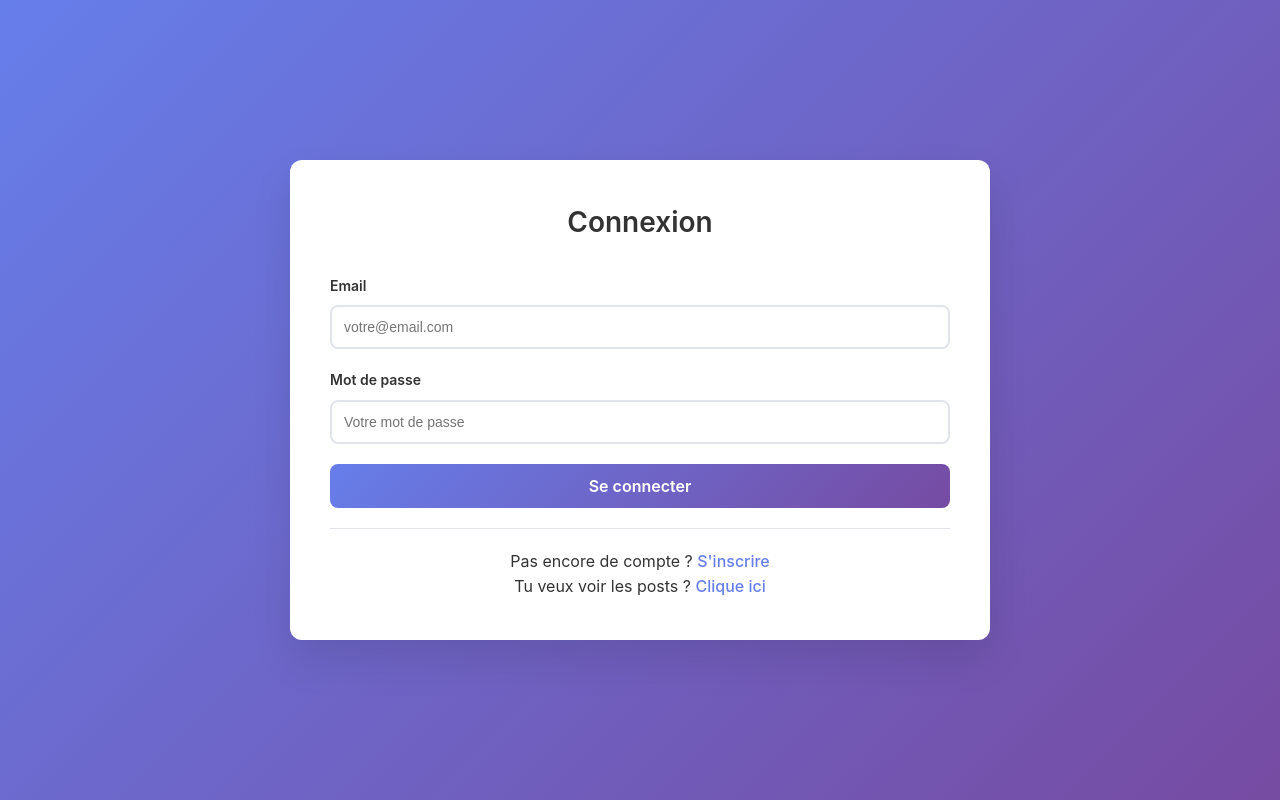
Test: Login Component › should handle form reset after error
This screenshot has width=1280, height=800.
Type "test@example.com" into the field with test id "login-email" at (640, 327), box [330, 305, 950, 349]
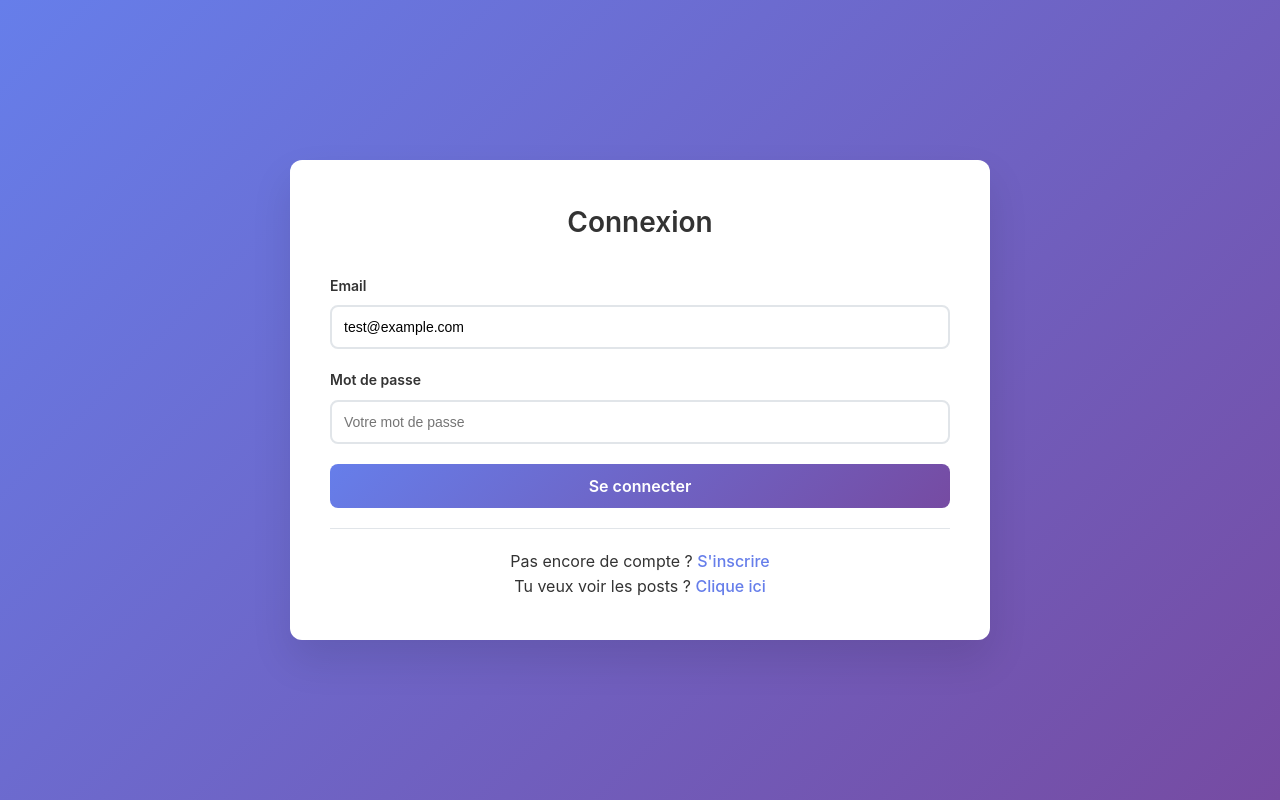
Type "password123" into the password field with test id "login-password" at (640, 422), box [330, 400, 950, 444]
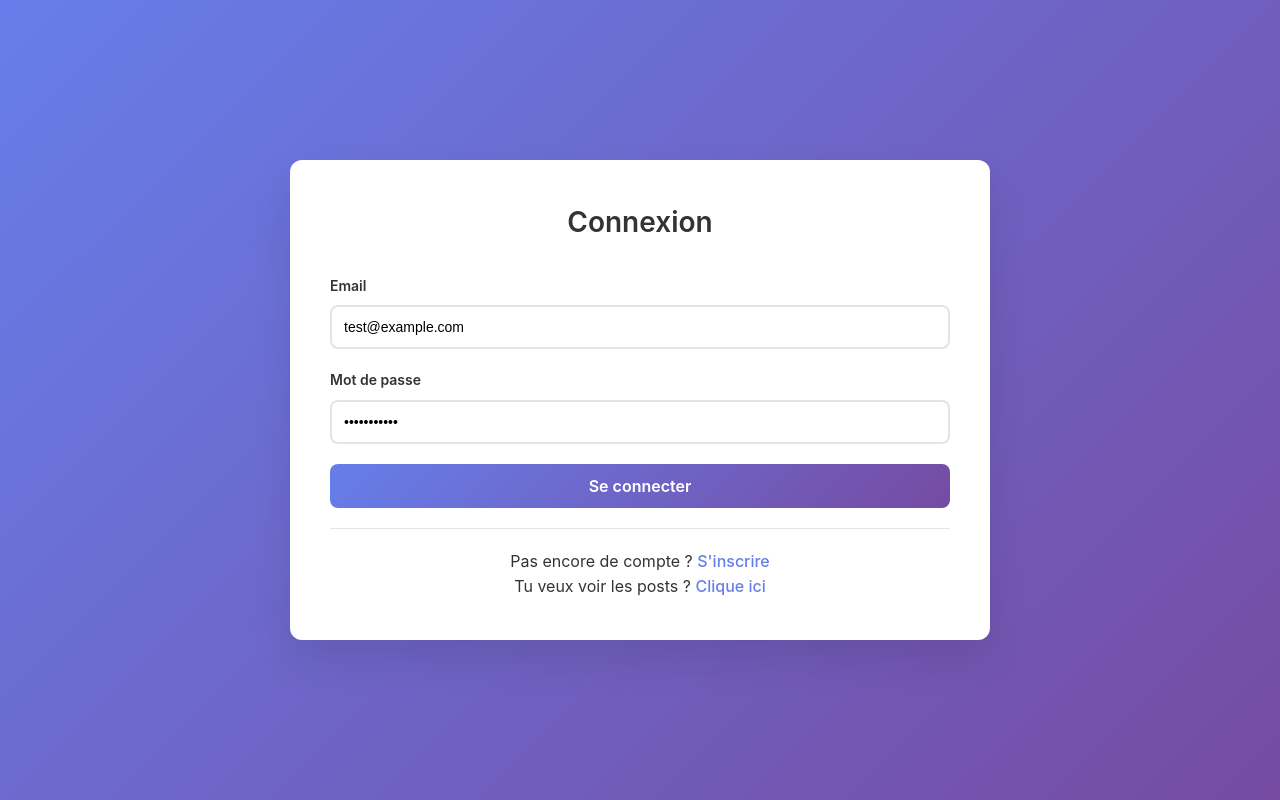
Click the button with test id "login-submit-button" at (640, 486), box [330, 464, 950, 508]
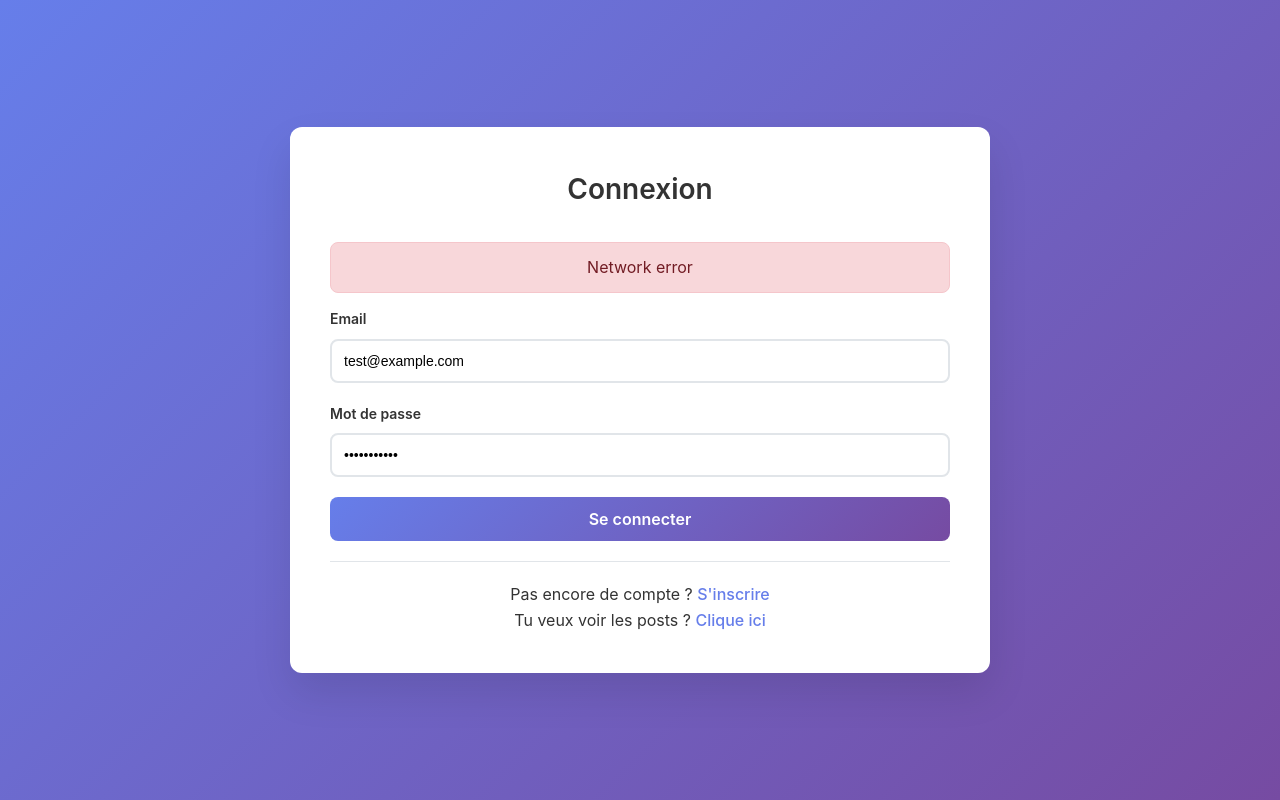
Result: the text "Network error" is shown at [330, 242, 950, 293]
